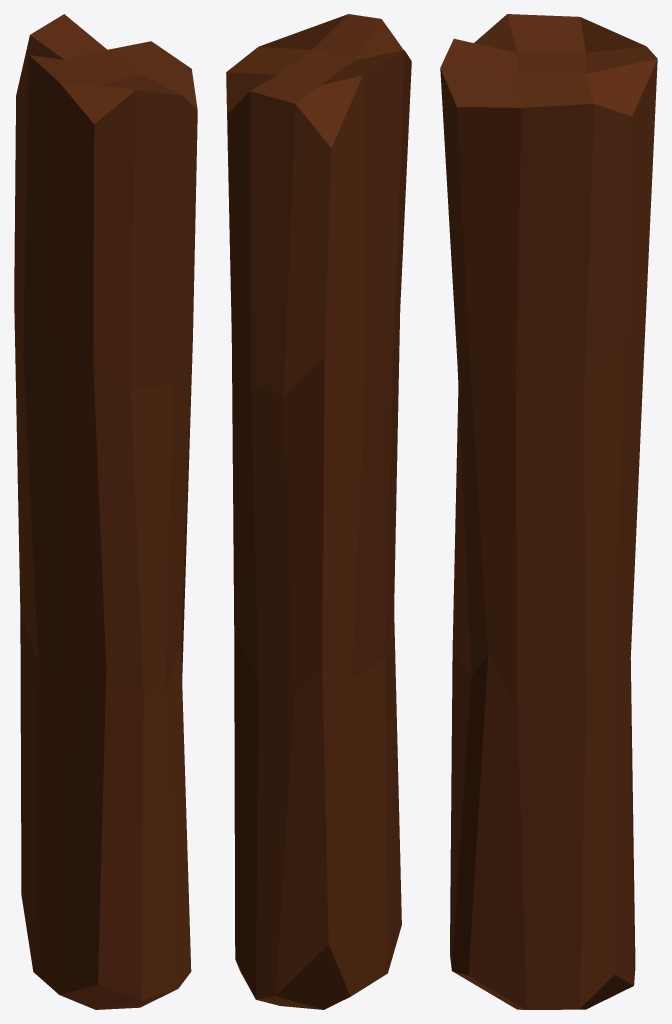
File: stick.fbx
The picture shows the model from 3 angles, left to right: view 1: azimuth 30°, elevation 25°; view 2: azimuth 150°, elevation 25°; view 3: azimuth 270°, elevation 25°; orthographic projection.
Parts seen in each view (by area): view 1: Cube; view 2: Cube; view 3: Cube.
Boxes of the visible parts, x1,y1,x2,y2 form: Cube: (14,14,197,1009); Cube: (226,14,411,1009); Cube: (440,14,657,1009).
Bounding box in the file's own units: 31.34 × 204 × 42.16.
